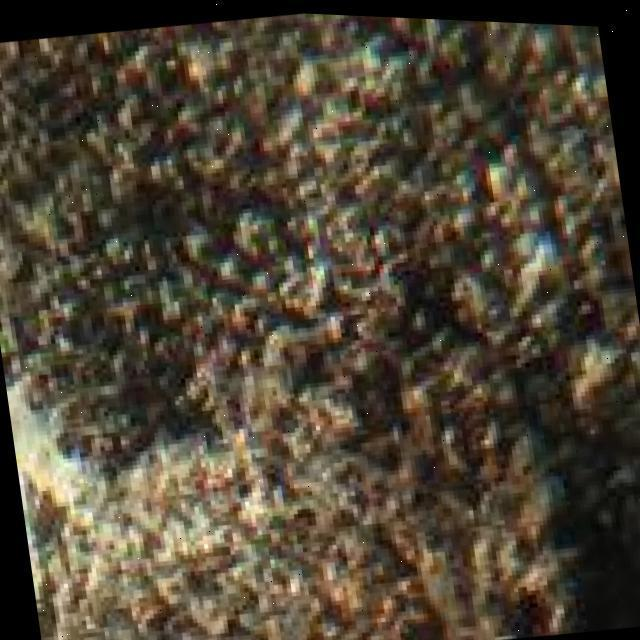Dead Coral: (37, 34, 640, 630)
